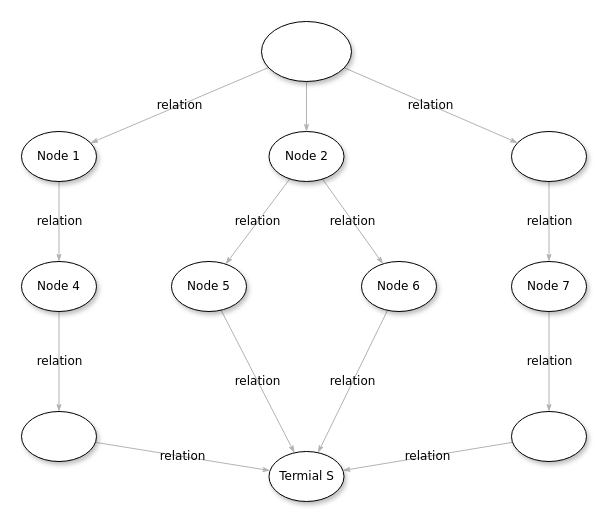
Some shapes in this 610 by 526 pixel diagram are drawn without their labels. Here are the shapes that lost their labels. From the top down, the centre of each, then its label:
At [307,52]: "Initial State".
At [549,157]: "Node 3".
At [59,437]: "Node 8".
At [549,437]: "Node 9".
